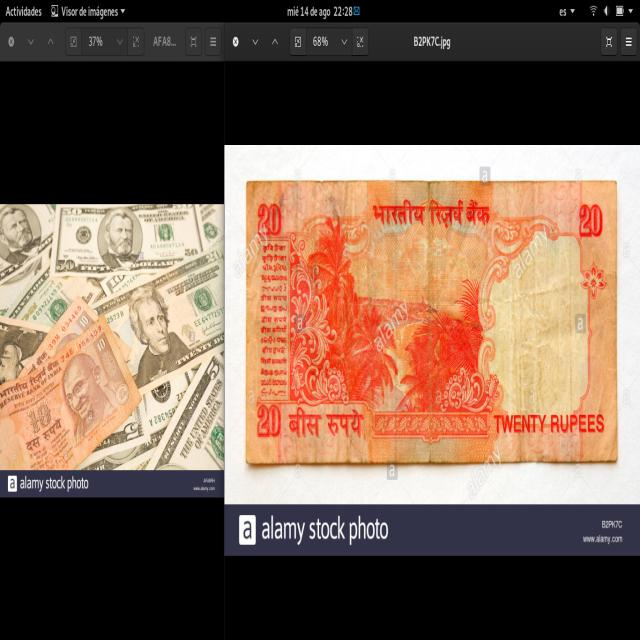20IndianRupees: (245, 180, 618, 456)
